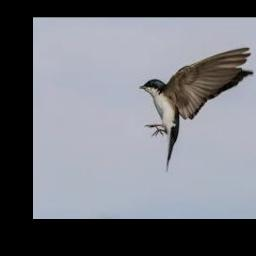Swallow: (140, 47, 254, 173)
